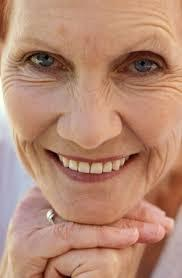Wrinkles: (121, 11, 174, 29), (132, 23, 178, 43), (151, 144, 168, 186), (124, 80, 181, 91), (2, 84, 46, 98), (1, 78, 57, 88), (143, 6, 171, 20), (1, 73, 33, 80), (161, 69, 181, 78), (154, 145, 164, 162), (103, 80, 110, 98), (158, 75, 181, 80), (106, 84, 112, 103), (74, 78, 79, 94), (10, 54, 19, 61), (70, 79, 73, 95), (5, 65, 17, 68), (171, 64, 177, 68)
